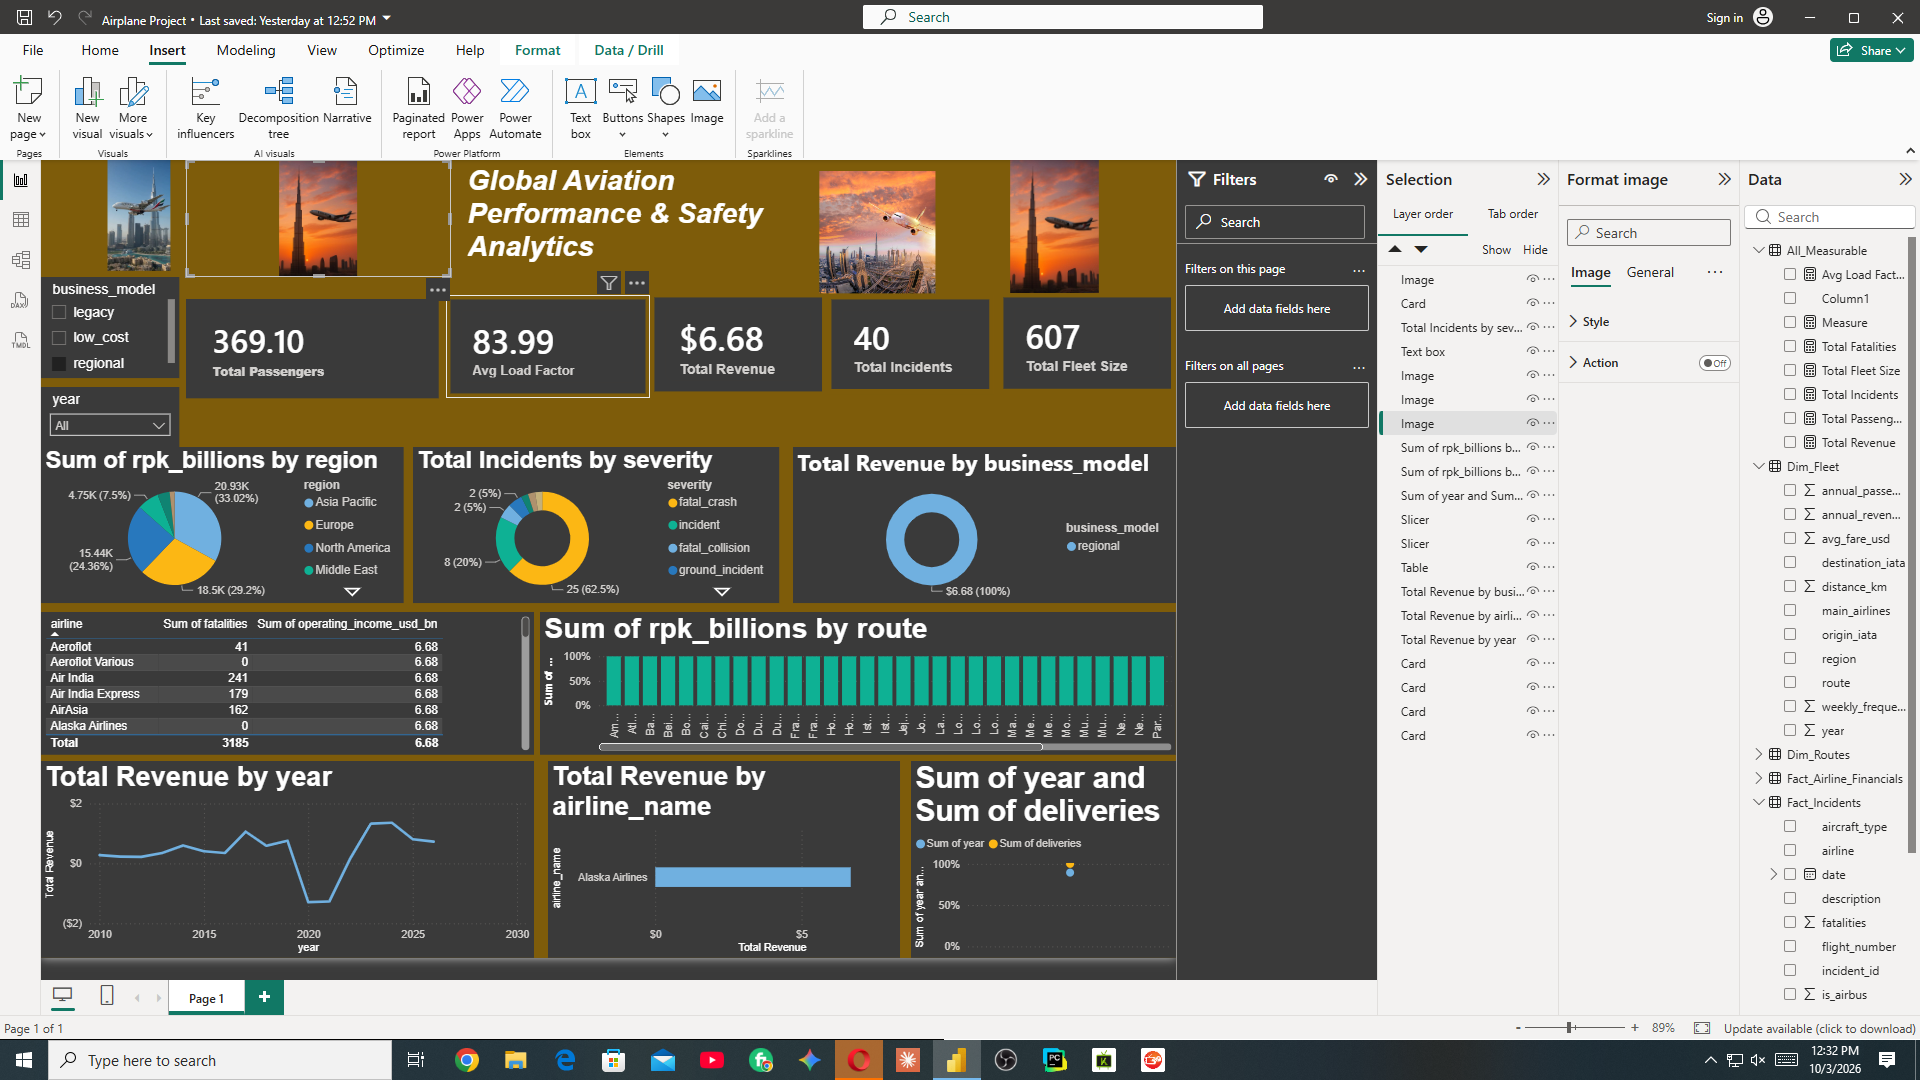

The page's visual inventory and layout, read from the dashboard file:
{"tool":"powerbi","page":{"name":"Page 1","canvas":[1280,900],"ordinal":0},"visuals":[{"type":"cardVisual","fields":{"Data":["All_Measurable.Total Revenue"]},"box":[686.8,150,199.6,116.2],"z":0},{"type":"cardVisual","fields":{"Data":["All_Measurable.Total Incidents"]},"box":[886.4,152.2,188.3,111.6],"z":1000},{"type":"cardVisual","fields":{"Data":["All_Measurable.Total Fleet Size"]},"box":[1074.7,156.8,199.6,107.1],"z":2000},{"type":"cardVisual","fields":{"Data":["All_Measurable.Avg Load Factor"]},"box":[456.7,152.2,230.1,116.2],"z":3000},{"type":"lineChart","fields":{"Category":["Fact_Airline_Financials.year"],"Y":["All_Measurable.Total Revenue"]},"box":[0,677.8,556,222.2],"z":4000},{"type":"barChart","fields":{"Category":["Fact_Airline_Financials.airline_name"],"Y":["All_Measurable.Total Revenue"]},"box":[571.8,677.8,397,222.2],"z":5000},{"type":"donutChart","fields":{"Category":["Fact_Airline_Financials.business_model"],"Y":["All_Measurable.Total Revenue"]},"box":[845.2,264,434.8,176.4],"z":6000},{"type":"tableEx","fields":{"Values":["Fact_Incidents.airline","Sum(Fact_Incidents.fatalities)","Sum(Fact_Airline_Financials.operating_income_usd_bn)"]},"box":[0,442.6,562.4,228.5],"z":7000},{"type":"slicer","fields":{"Values":["Fact_Airline_Financials.business_model"]},"box":[0,152,155.3,114.2],"z":8000},{"type":"hundredPercentStackedAreaChart","fields":{"Y":["Sum(Fact_Traffic.year)","Sum(Fact_Traffic.deliveries)"]},"box":[981.1,677.8,298.9,222.2],"z":9000},{"type":"pieChart","fields":{"Category":["Dim_Routes.region"],"Y":["Sum(Dim_Routes.rpk_billions)"]},"box":[22.2,264,409.3,175.3],"z":10000},{"type":"hundredPercentStackedColumnChart","fields":{"Category":["Dim_Fleet.route"],"Y":["Sum(Dim_Routes.rpk_billions)"]},"box":[562.7,442.1,717.3,228.9],"z":11000},{"type":"image","box":[163.1,0,293.9,124.2],"z":12000},{"type":"image","box":[0,0,221,125.2],"z":13000},{"type":"image","box":[818.7,12.4,249.2,137.6],"z":14000},{"type":"textbox","box":[462.5,7.8,356,116.5],"z":15000},{"type":"donutChart","fields":{"Category":["Fact_Incidents.severity"],"Y":["All_Measurable.Total Incidents"]},"box":[433.7,264,413.7,175.3],"z":16000},{"type":"cardVisual","fields":{"Data":["All_Measurable.Total Passengers"]},"box":[163.1,156.4,293.9,107.6],"z":17000},{"type":"image","box":[1064.6,0,150,150],"z":18000}]}

Visuals, with their boxes on the page's 1280x900 design canvas (x1, y1, x2, y2). These are canvas units, not pixel positions in the 1920x1080 screenshot, which may show the page scaled, cropped or inside an application window:
cardVisual - All_Measurable.Total Revenue: x1=687 y1=150 x2=886 y2=266
cardVisual - All_Measurable.Total Incidents: x1=886 y1=152 x2=1075 y2=264
cardVisual - All_Measurable.Total Fleet Size: x1=1075 y1=157 x2=1274 y2=264
cardVisual - All_Measurable.Avg Load Factor: x1=457 y1=152 x2=687 y2=268
lineChart - Fact_Airline_Financials.year x All_Measurable.Total Revenue: x1=0 y1=678 x2=556 y2=900
barChart - Fact_Airline_Financials.airline_name x All_Measurable.Total Revenue: x1=572 y1=678 x2=969 y2=900
donutChart - Fact_Airline_Financials.business_model x All_Measurable.Total Revenue: x1=845 y1=264 x2=1280 y2=440
tableEx - Fact_Incidents.airline x Sum(Fact_Incidents.fatalities): x1=0 y1=443 x2=562 y2=671
slicer - Fact_Airline_Financials.business_model: x1=0 y1=152 x2=155 y2=266
hundredPercentStackedAreaChart - Sum(Fact_Traffic.year) x Sum(Fact_Traffic.deliveries): x1=981 y1=678 x2=1280 y2=900
pieChart - Dim_Routes.region x Sum(Dim_Routes.rpk_billions): x1=22 y1=264 x2=432 y2=439
hundredPercentStackedColumnChart - Dim_Fleet.route x Sum(Dim_Routes.rpk_billions): x1=563 y1=442 x2=1280 y2=671
image: x1=163 y1=0 x2=457 y2=124
image: x1=0 y1=0 x2=221 y2=125
image: x1=819 y1=12 x2=1068 y2=150
textbox: x1=462 y1=8 x2=818 y2=124
donutChart - Fact_Incidents.severity x All_Measurable.Total Incidents: x1=434 y1=264 x2=847 y2=439
cardVisual - All_Measurable.Total Passengers: x1=163 y1=156 x2=457 y2=264
image: x1=1065 y1=0 x2=1215 y2=150
